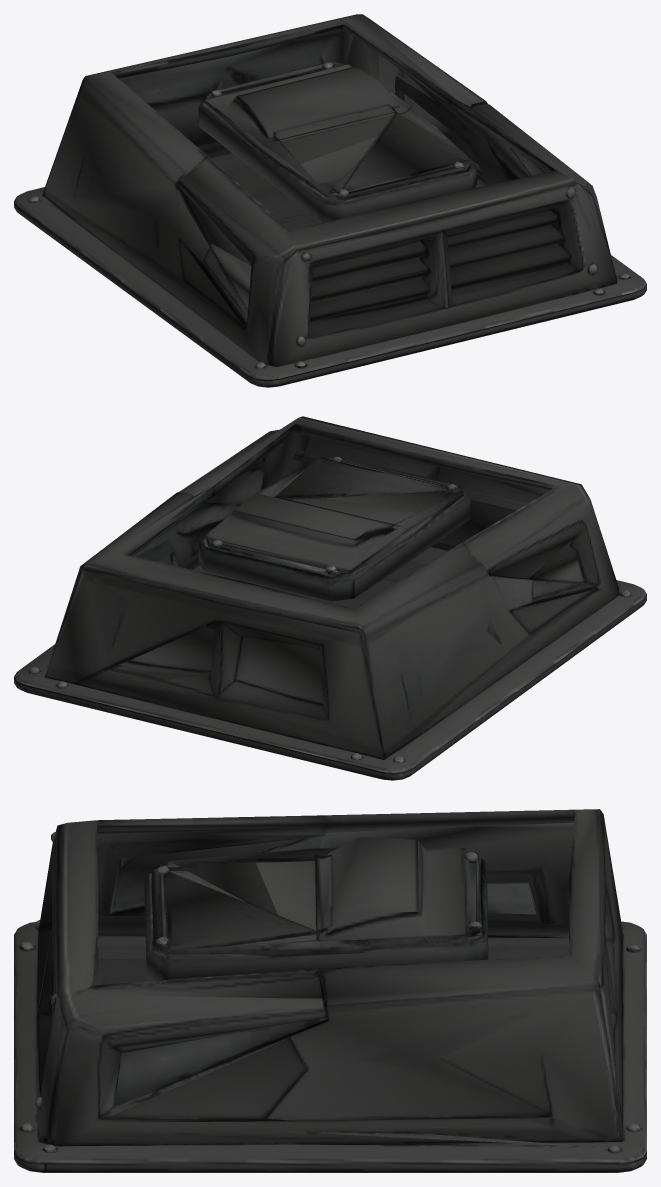
Rendered from bunker-big_engine.glb.
3 renders of one model, top to bottom at view 1: azimuth 30°, elevation 25°; view 2: azimuth 150°, elevation 25°; view 3: azimuth 270°, elevation 25°, orthographic. The views are drawn at different scales.
Parts seen in each view (by area): view 1: tripo_node_affc9437-cc99-48d5-96d9-21d2ad6523fc; view 2: tripo_node_affc9437-cc99-48d5-96d9-21d2ad6523fc; view 3: tripo_node_affc9437-cc99-48d5-96d9-21d2ad6523fc.
Boxes of the visible parts, bbox=[...] form: tripo_node_affc9437-cc99-48d5-96d9-21d2ad6523fc: bbox=[14, 14, 646, 387]; tripo_node_affc9437-cc99-48d5-96d9-21d2ad6523fc: bbox=[14, 416, 646, 780]; tripo_node_affc9437-cc99-48d5-96d9-21d2ad6523fc: bbox=[14, 809, 646, 1172].
Size of the model in its own units: 0.9881 by 0.3466 by 1.1.
Materials: 1 (1 with a texture image).
